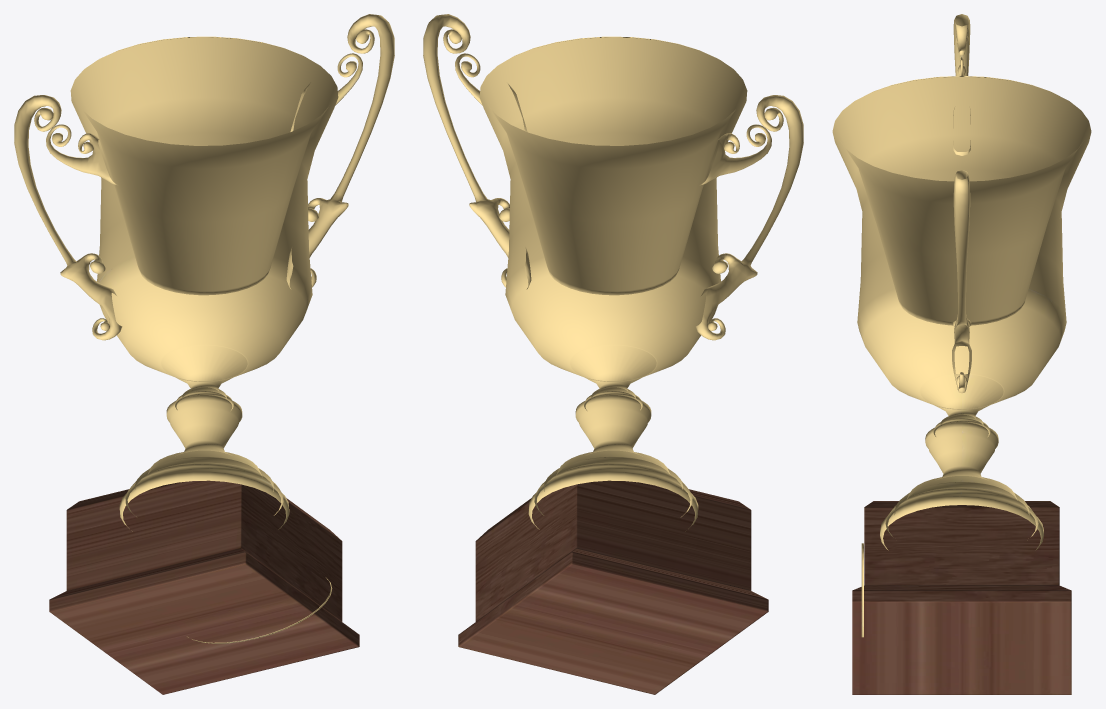
Rendered from trophy.glb.
3 renders of one model, left to right at view 1: azimuth 30°, elevation 25°; view 2: azimuth 150°, elevation 25°; view 3: azimuth 270°, elevation 25°, orthographic. The views are drawn at different scales.
Parts seen in each view (by area): view 1: OBtrophy; view 2: OBtrophy; view 3: OBtrophy.
Boxes of the visible parts, x1,y1,x2,y2 form: OBtrophy: (14, 14, 394, 694); OBtrophy: (423, 14, 803, 694); OBtrophy: (832, 14, 1091, 694).
Bounding box in the file's own units: 3.12 × 4.52 × 1.91.
1 material, 1 textured.
